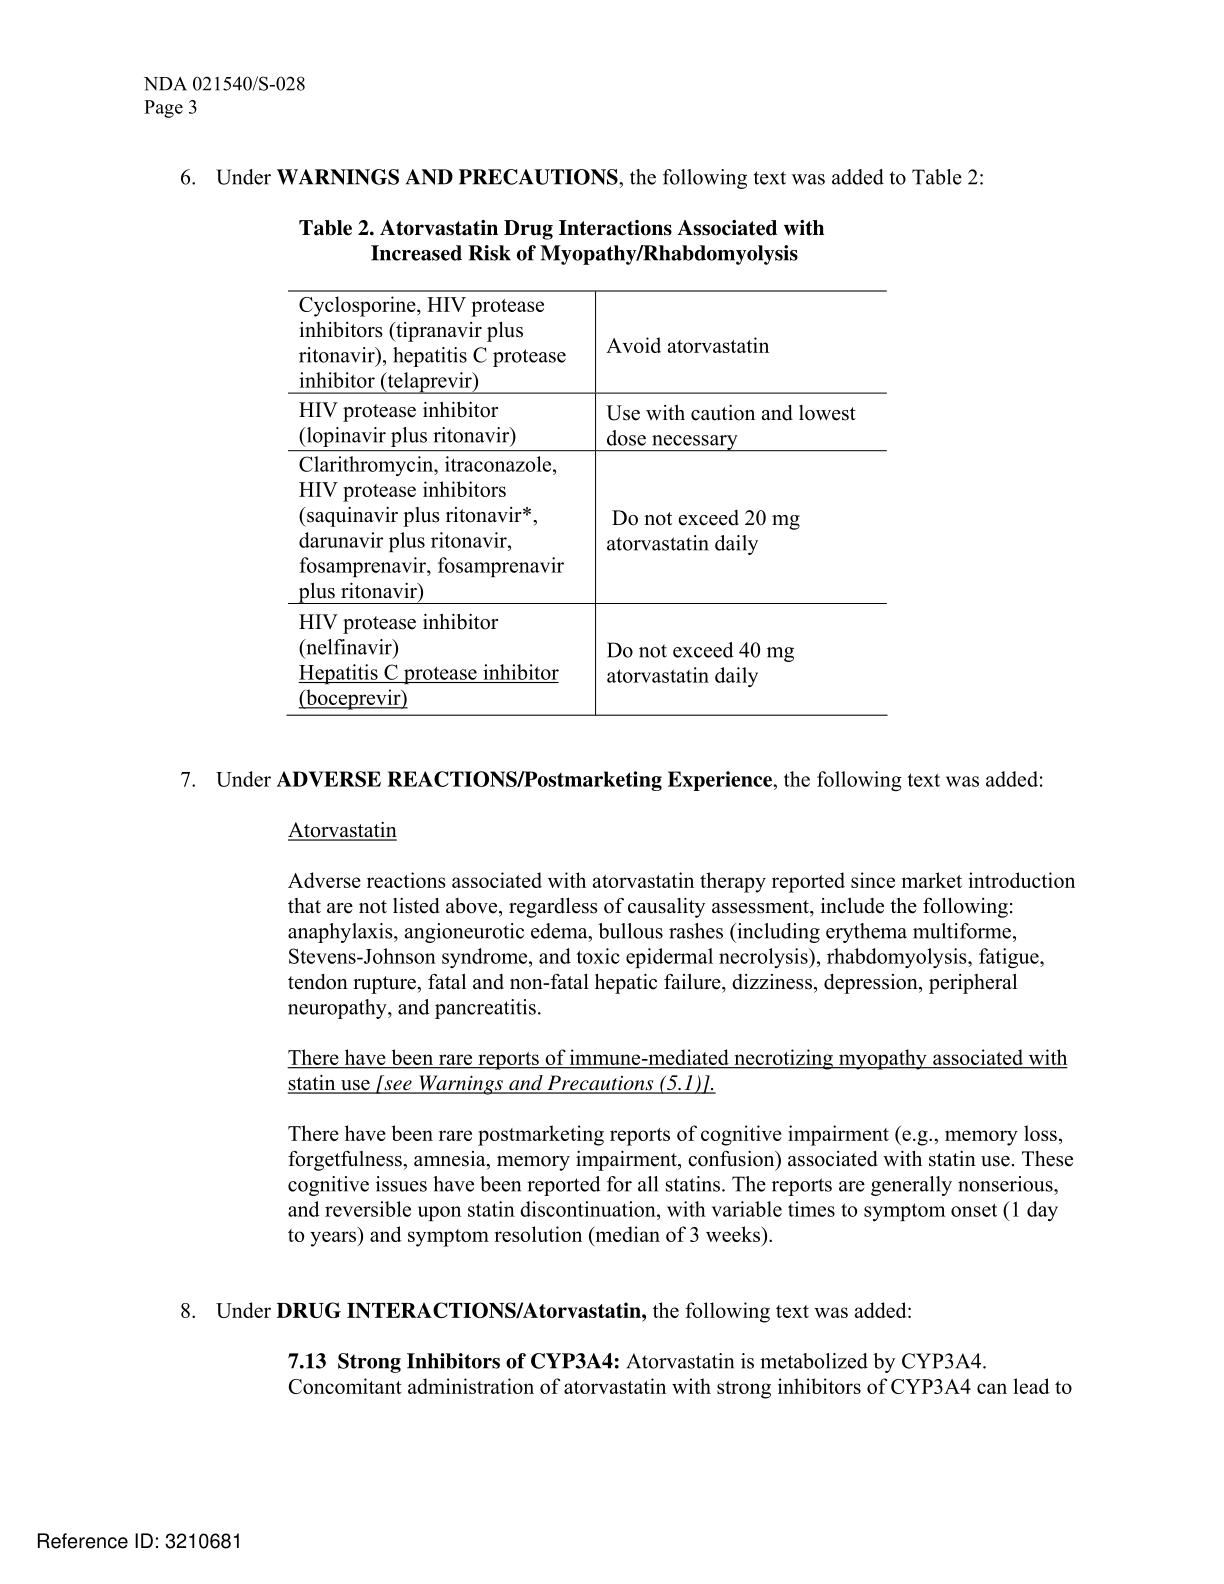partial_lined: (285, 288, 891, 719)
